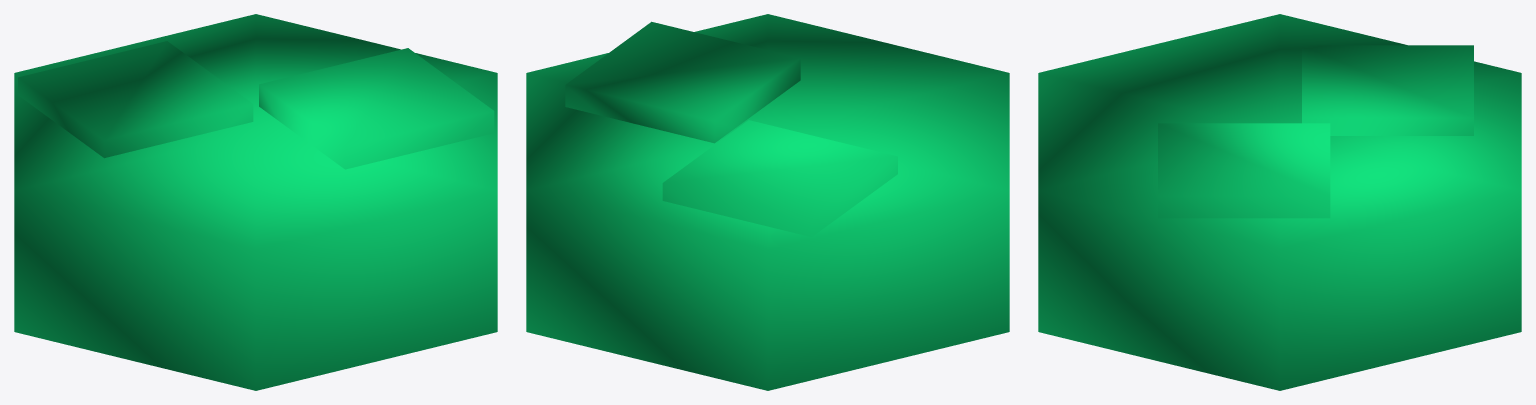
File: ps2_jrpg_ruins_overgrown_ivy_bush.obj
3 views of the same model, side by side, from view 1: azimuth 30°, elevation 25°; view 2: azimuth 150°, elevation 25°; view 3: azimuth 270°, elevation 25° (orthographic).
Size of the model in its own units: 1.36 by 0.4398 by 1.18.
